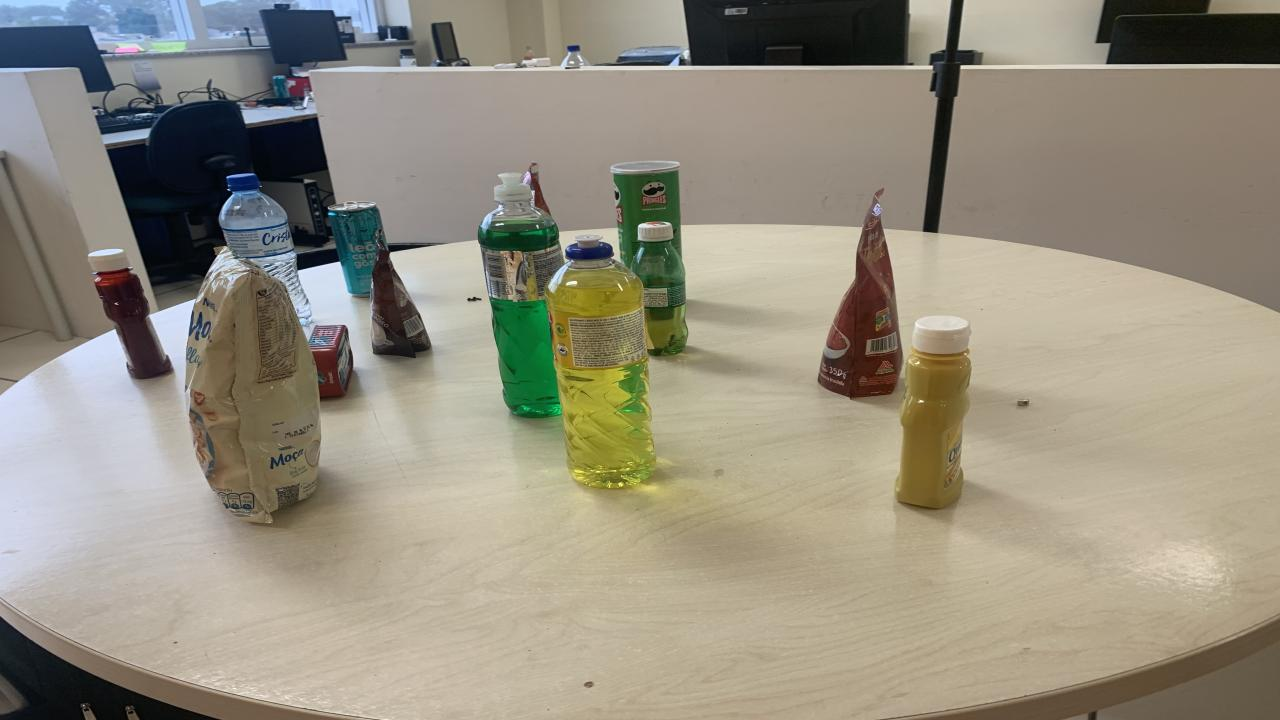Coffee-Pantry_Items: (370, 240, 430, 358)
Detergent-Cleanup_Items: (545, 234, 655, 488), (478, 172, 562, 418)
Flakes-Snacks: (185, 249, 320, 523)
Guarana-Drinks: (630, 223, 688, 354)
Ketchup-Pantry_Items: (88, 249, 172, 379)
Mustard-Pantry_Items: (895, 317, 972, 508)
Pringles-Snacks: (610, 161, 680, 266)
Tea-Drinks: (330, 202, 385, 294)
Tomato_Sauce-Pantry_Items: (818, 189, 902, 398)
Tuna_Can-Pantry_Items: (308, 324, 352, 398)
Water_Bottle-Drinks: (220, 174, 312, 324)
